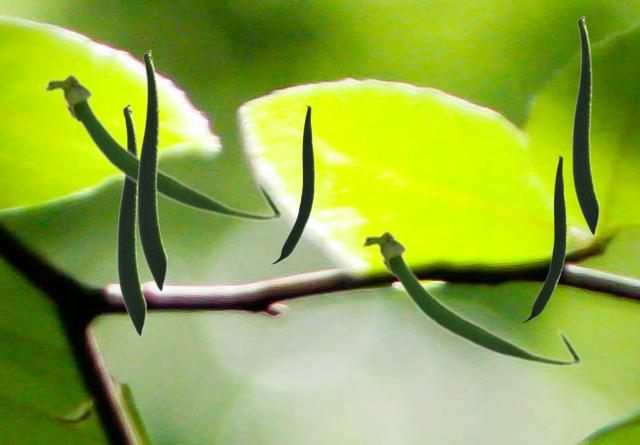french_bean: (42, 71, 283, 222), (360, 228, 582, 367), (520, 155, 565, 322), (136, 49, 167, 291), (116, 103, 146, 336), (270, 105, 313, 263), (571, 15, 599, 235)
